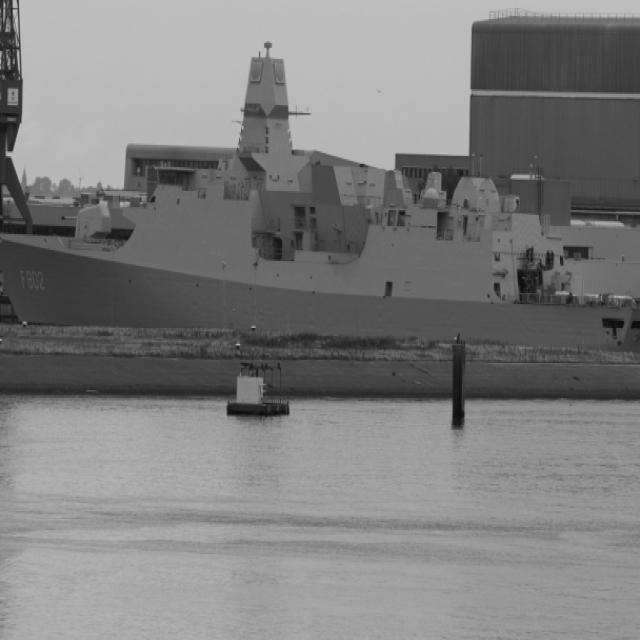Fragata: (1, 63, 640, 343)
